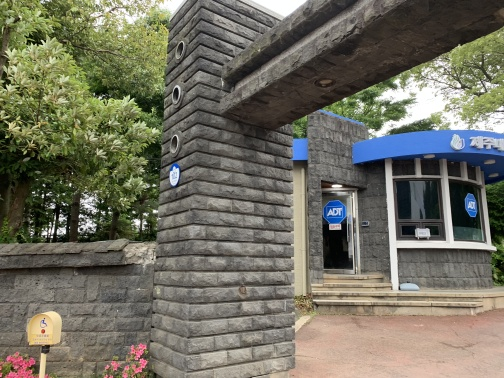Security Office: (299, 116, 501, 320)
